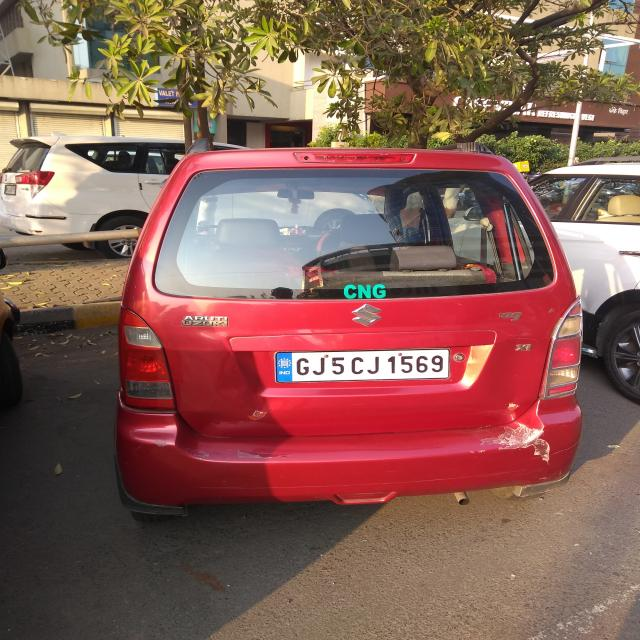Number-Plate: (279, 352, 453, 384)
